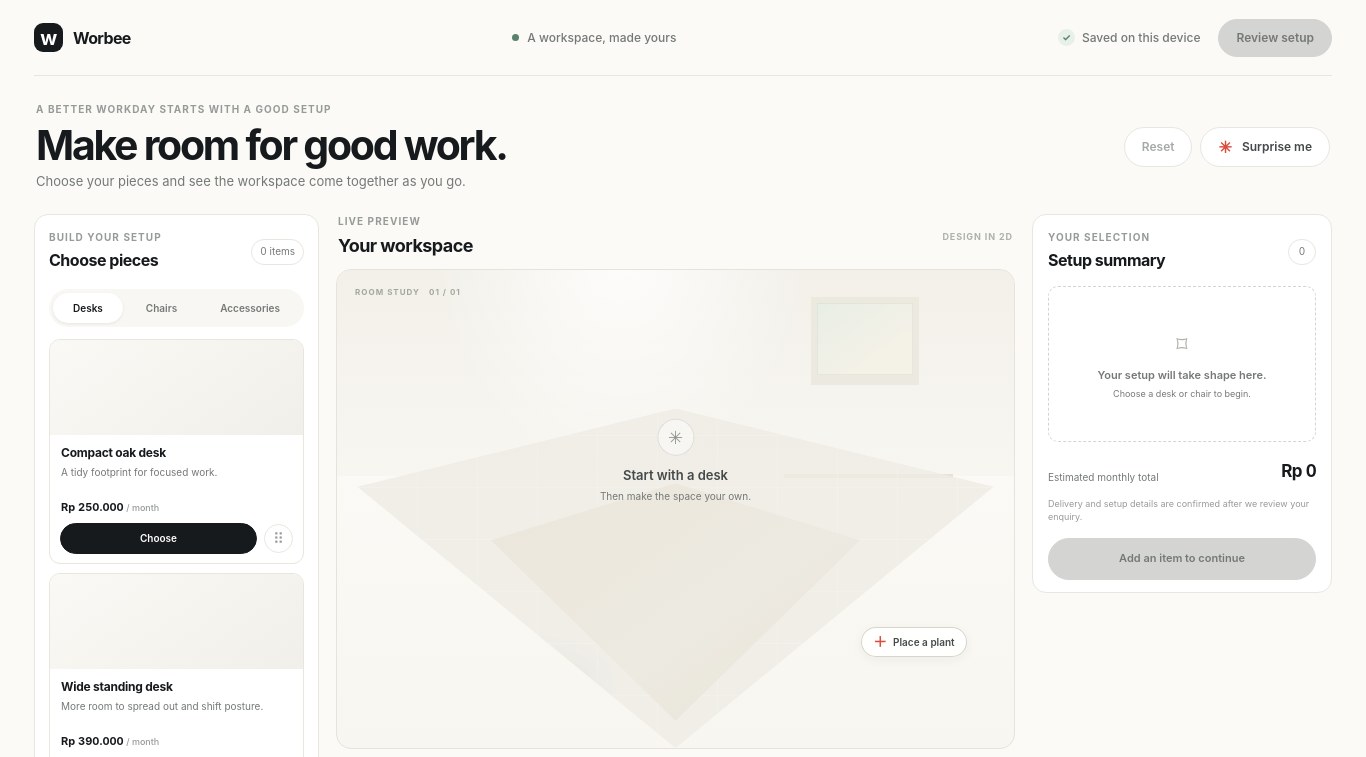
Test: WorkspaceBuilder › explains when an accessory needs a desk
Click the tab "Accessories": (250, 308) [200,293,300,323]
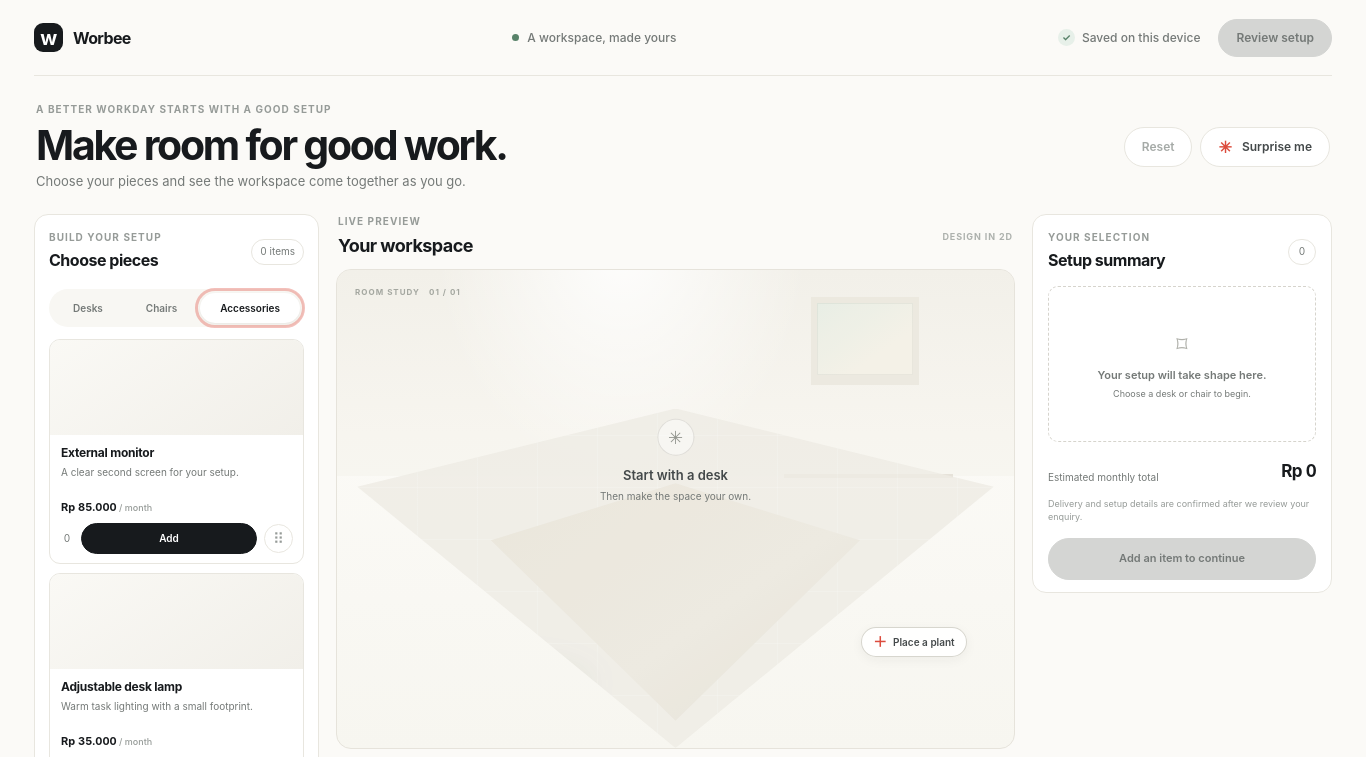
Click the button with aria-label "Add External monitor": (169, 538) [81,523,257,554]
(page scrolled)
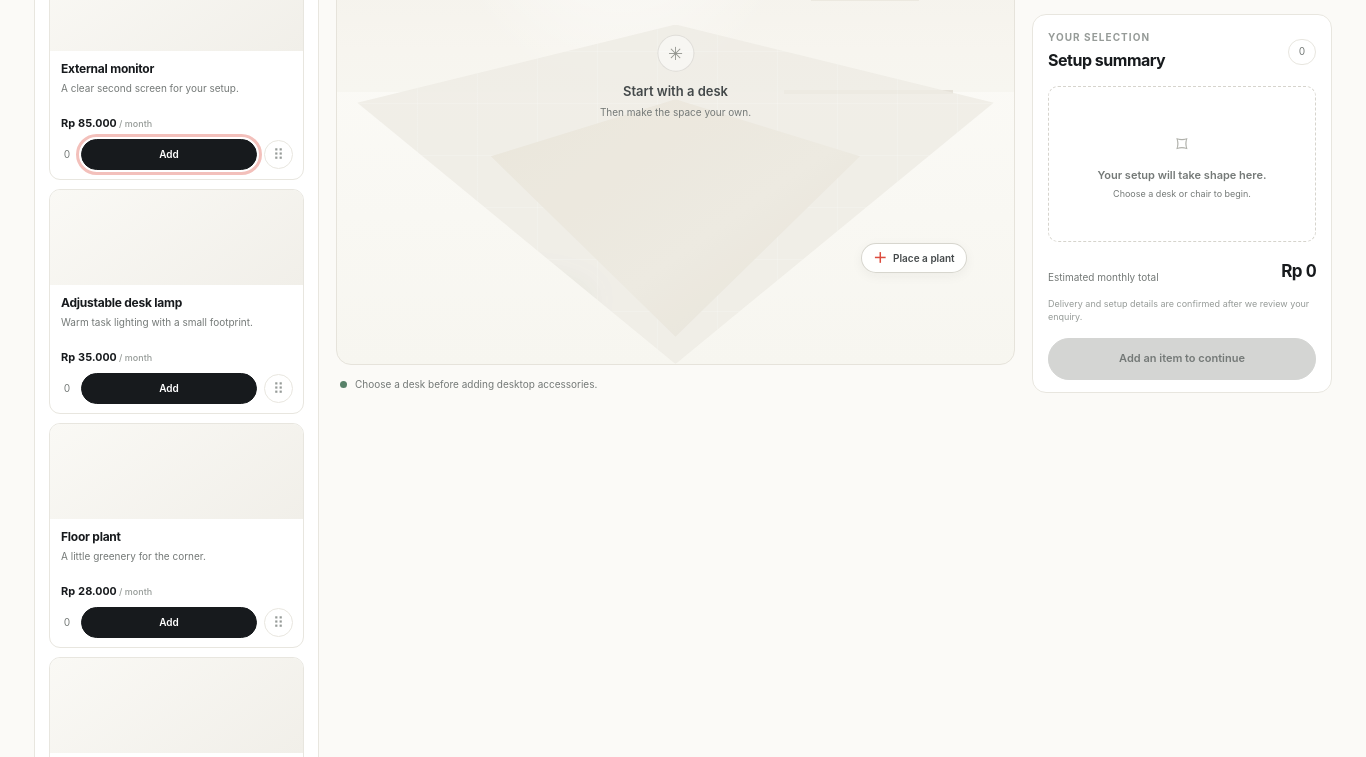
Result: the text "Choose a desk before adding desktop accessories." is shown at [355,377,597,391]
